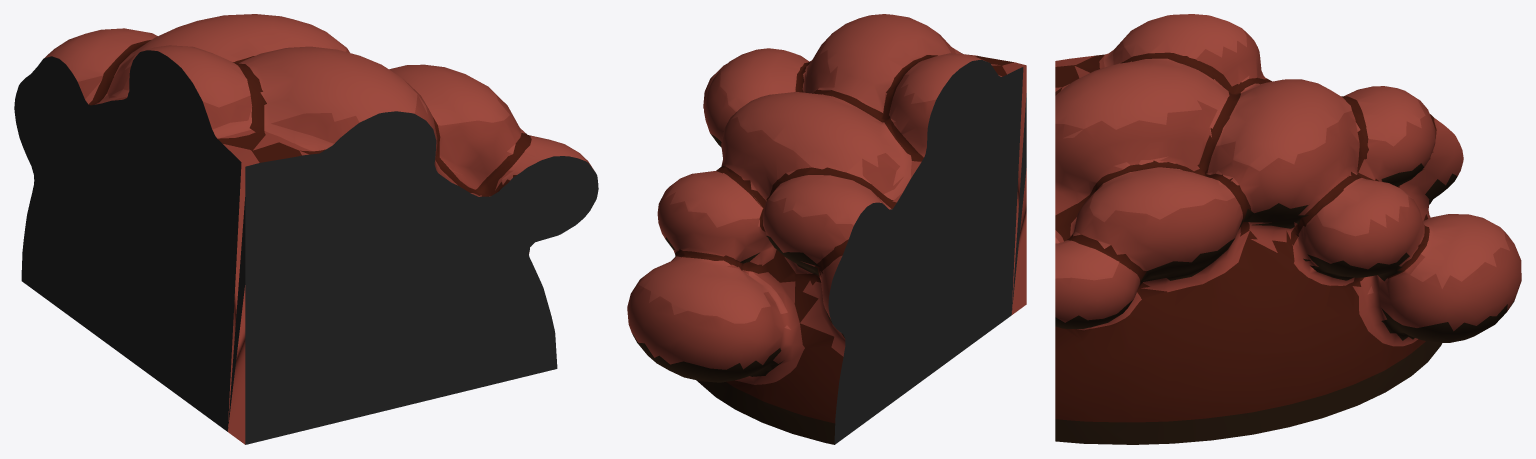
Rendered from miners_ore_tr.glb.
3 views of the same model, side by side, from view 1: azimuth 30°, elevation 25°; view 2: azimuth 150°, elevation 25°; view 3: azimuth 270°, elevation 25° (orthographic). The views are drawn at different scales.
Visible parts, largest first — view 1: ore.001; view 2: ore.001; view 3: ore.001.
Boxes of the visible parts, <box> form: ore.001: <box>14,14,598,444</box>; ore.001: <box>627,14,1026,444</box>; ore.001: <box>1055,14,1521,444</box>.
Bounding box in the file's own units: 15.17 × 13.58 × 19.51.
